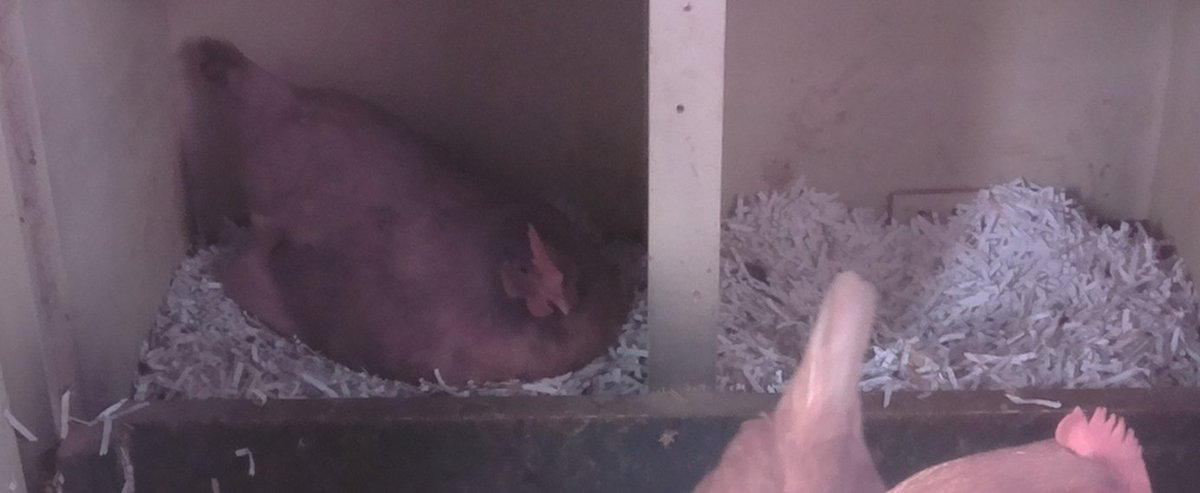hen: (190, 35, 633, 387), (689, 282, 1162, 493)
